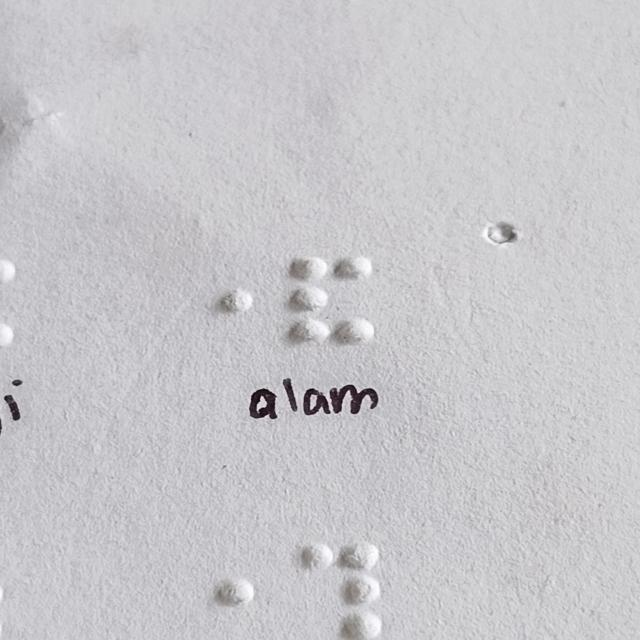dot_5: (171, 255, 255, 348)
two_cell_non_alphabet_alam: (289, 253, 374, 346)
